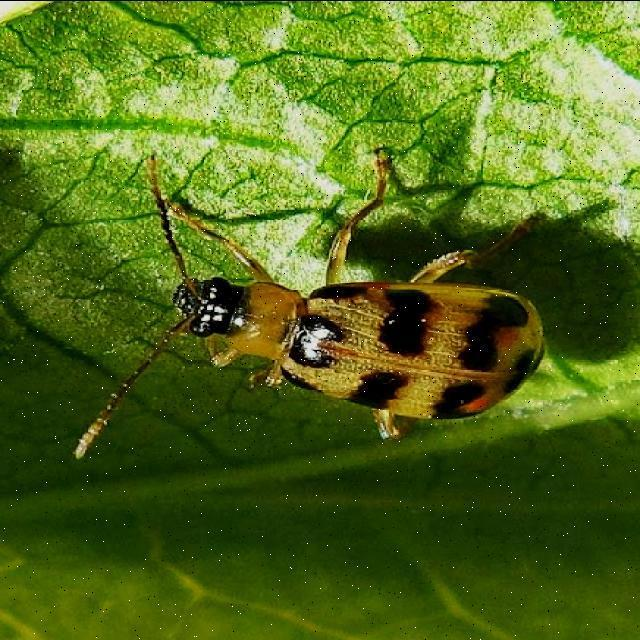gusano_verde: (73, 145, 549, 458)
